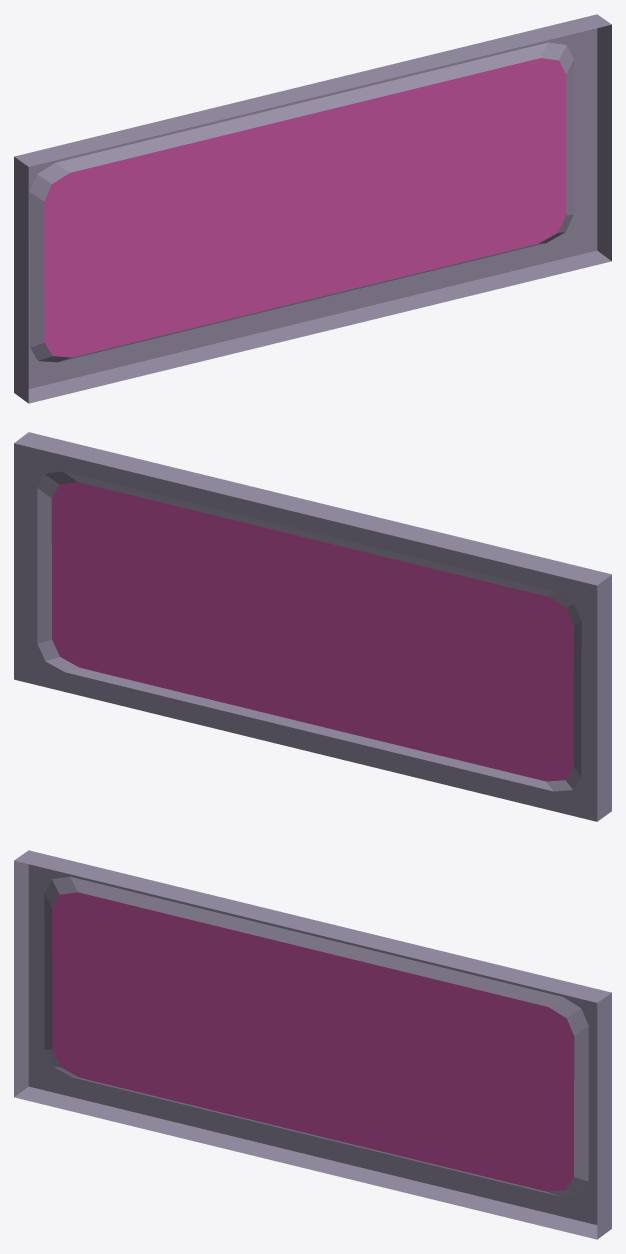
Rendered from HoverKart_LicensePlate.fbx.
3 renders of one model, top to bottom at view 1: azimuth 30°, elevation 25°; view 2: azimuth 150°, elevation 25°; view 3: azimuth 330°, elevation 25°, orthographic.
Parts seen in each view (by area): view 1: Hover_LicensePlate; view 2: Hover_LicensePlate; view 3: Hover_LicensePlate.
Part boxes in pixels (bbox=[...]): Hover_LicensePlate: bbox=[14, 14, 611, 403]; Hover_LicensePlate: bbox=[14, 432, 611, 821]; Hover_LicensePlate: bbox=[14, 850, 611, 1239].
Size of the model in its own units: 42.99 by 16.68 by 1.89.
